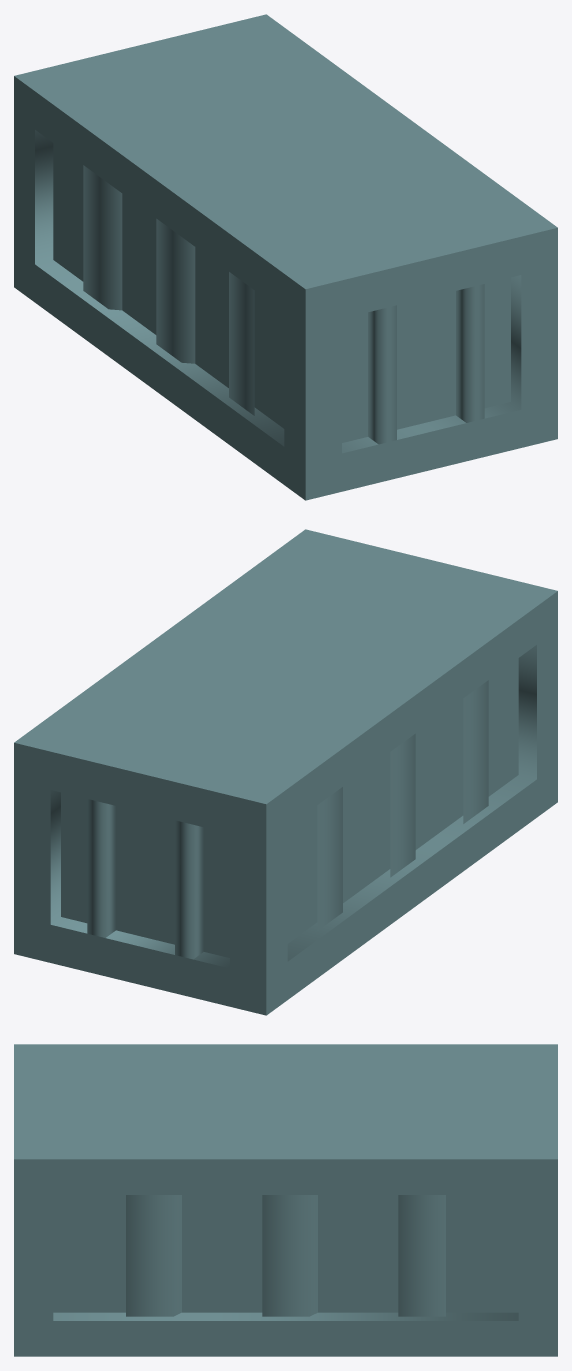
The model's file is shipping_container.glb.
3 renders of one model, top to bottom at view 1: azimuth 30°, elevation 25°; view 2: azimuth 150°, elevation 25°; view 3: azimuth 270°, elevation 25°, orthographic. The views are drawn at different scales.
Visible parts, largest first — view 1: shipping_container; view 2: shipping_container; view 3: shipping_container.
Boxes of the visible parts, <box> form: shipping_container: <box>14,14,557,500</box>; shipping_container: <box>14,529,557,1015</box>; shipping_container: <box>14,1044,557,1356</box>.
Bounding box in the file's own units: 3 × 2.4 × 6.
